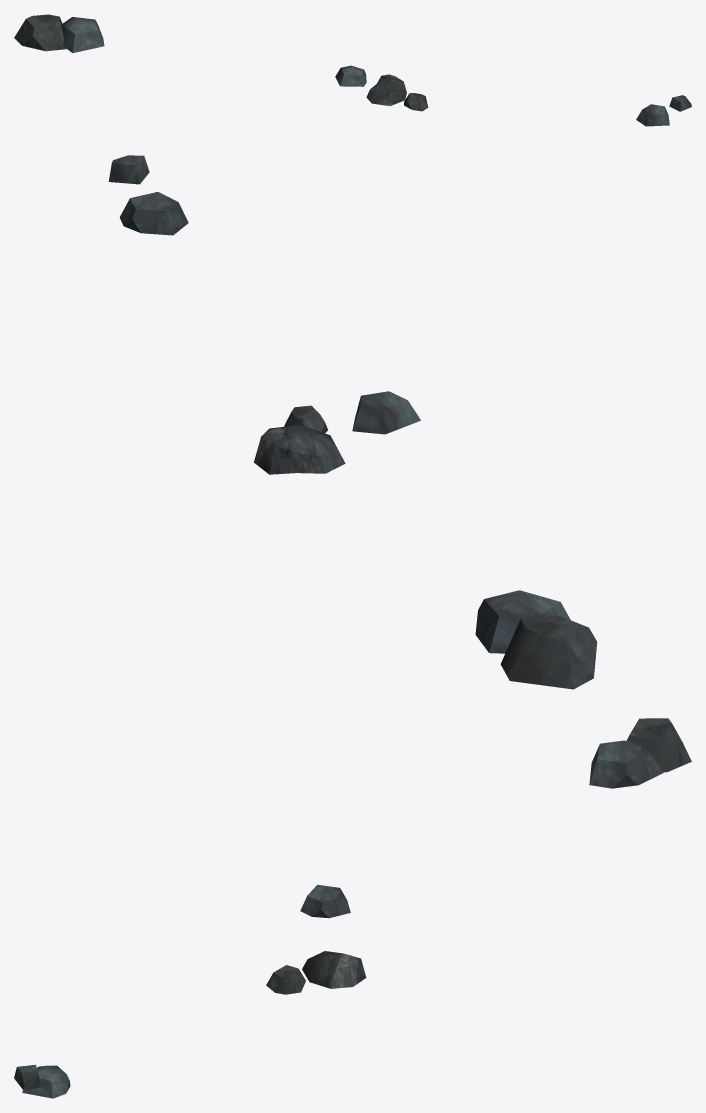
Rendered from object_rubble18.fbx.
3 views of the same model, one above another, from view 1: azimuth 30°, elevation 25°; view 2: azimuth 150°, elevation 25°; view 3: azimuth 270°, elevation 25° (orthographic). The views are drawn at different scales.
Visible parts, largest first — view 1: Material_#238683587/cliffside; view 2: Material_#238683587/cliffside; view 3: Material_#238683587/cliffside.
Boxes of the visible parts, left/top/right/bottom form: Material_#238683587/cliffside: left=14, top=14, right=691, bottom=126; Material_#238683587/cliffside: left=108, top=155, right=597, bottom=689; Material_#238683587/cliffside: left=14, top=718, right=691, bottom=1098.
Bounding box in the file's own units: 7.05 × 0.8739 × 6.2.
